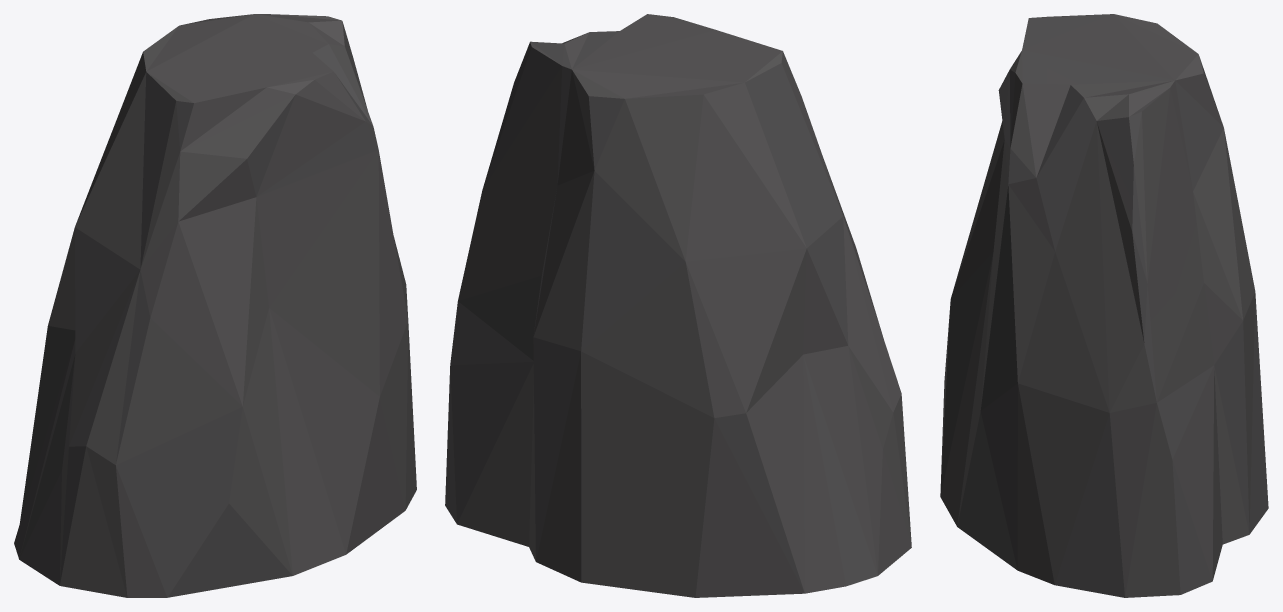
The model's file is samurai_SM_Env_Cliff_Island_05.gltf.
3 renders of one model, left to right at view 1: azimuth 30°, elevation 25°; view 2: azimuth 150°, elevation 25°; view 3: azimuth 270°, elevation 25°, orthographic.
Visible parts, largest first — view 1: SM_Env_Cliff_Island_05; view 2: SM_Env_Cliff_Island_05; view 3: SM_Env_Cliff_Island_05.
Boxes of the visible parts, x1,y1,x2,y2 form: SM_Env_Cliff_Island_05: (14, 14, 416, 597); SM_Env_Cliff_Island_05: (445, 14, 911, 597); SM_Env_Cliff_Island_05: (940, 14, 1268, 597).
Bounding box in the file's own units: 21.24 × 23.44 × 15.28.
Materials: 1 (1 with a texture image).
